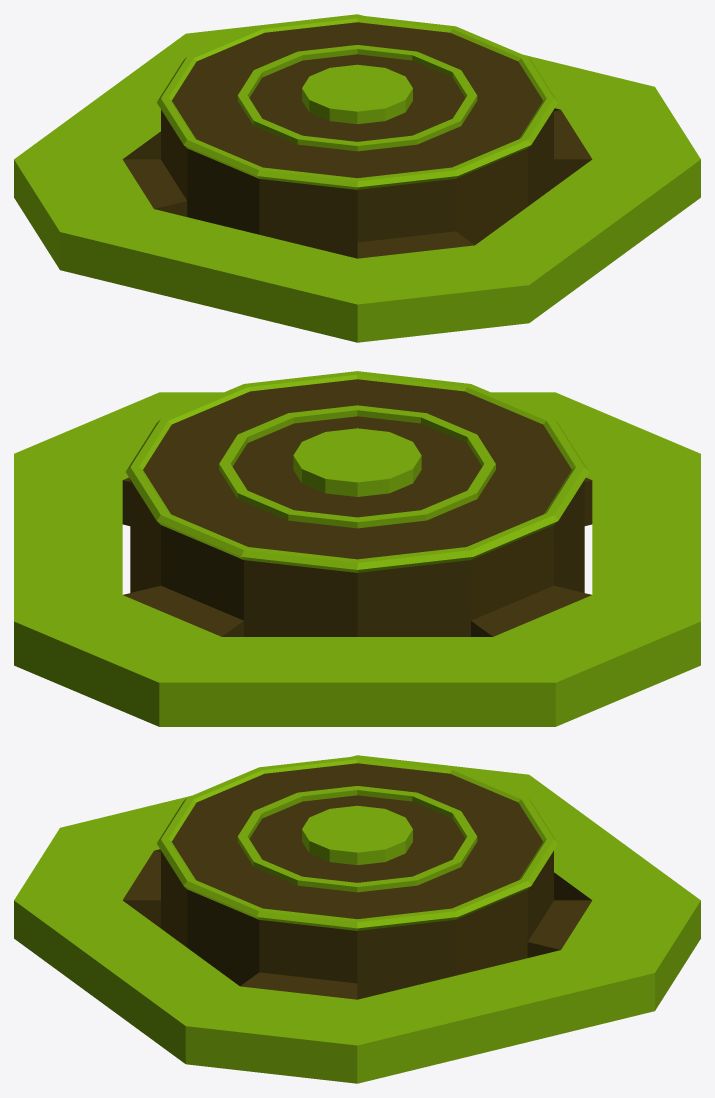
The model's file is mine.fbx.
3 renders of one model, top to bottom at view 1: azimuth 30°, elevation 25°; view 2: azimuth 150°, elevation 25°; view 3: azimuth 270°, elevation 25°, orthographic. The views are drawn at different scales.
Parts seen in each view (by area): view 1: Cylinder; view 2: Cylinder; view 3: Cylinder.
Part boxes in pixels (<box>): Cylinder: <box>14,14,700,342</box>; Cylinder: <box>14,371,700,726</box>; Cylinder: <box>14,755,700,1083</box>.
Size of the model in its own units: 145 by 28.16 by 145.
